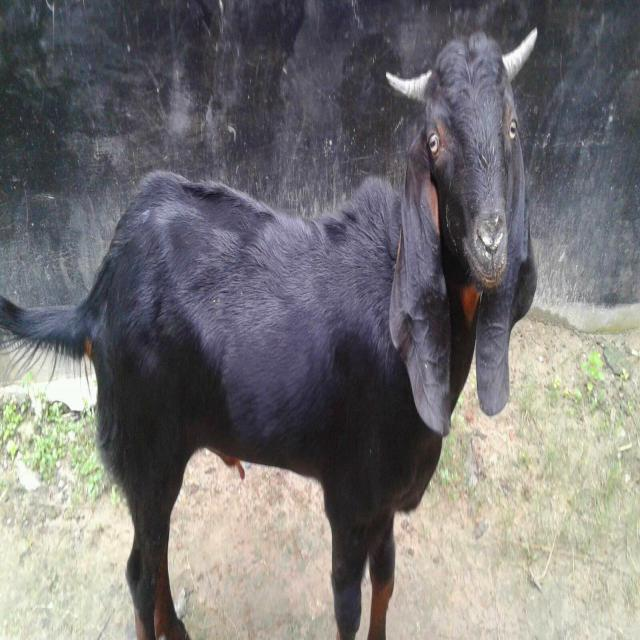Goat: (0, 24, 539, 639)
